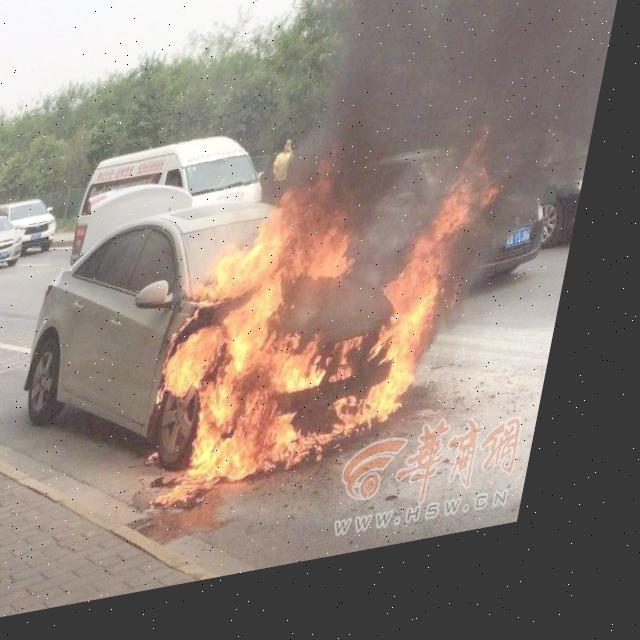Fire: (155, 146, 510, 518)
